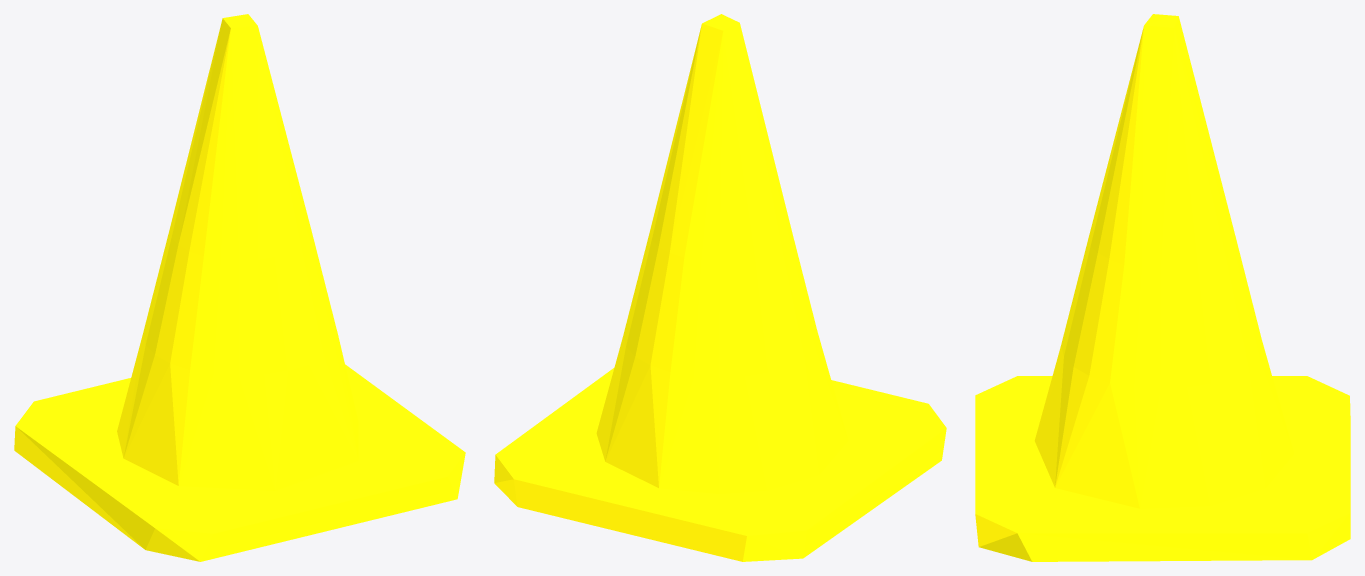
Rendered from cone_yellow.dae.
The picture shows the model from 3 angles, left to right: view 1: azimuth 30°, elevation 25°; view 2: azimuth 150°, elevation 25°; view 3: azimuth 270°, elevation 25°; orthographic projection. The views are drawn at different scales.
Parts seen in each view (by area): view 1: node; view 2: node; view 3: node.
Boxes of the visible parts, x1=… form: node: x1=14, y1=14, x2=465, y2=561; node: x1=494, y1=14, x2=946, y2=561; node: x1=975, y1=14, x2=1350, y2=561.
Size of the model in its own units: 0.2254 by 0.224 by 0.3034.
